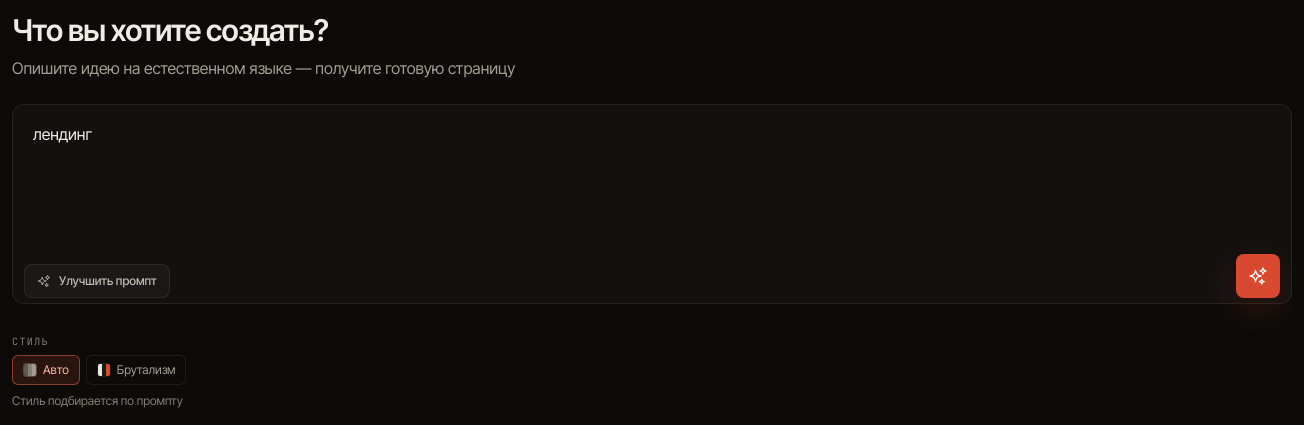
Test case: PromptInput › replaces the prompt with the result, keeps focus and does not generate
Click the button "Улучшить промпт" at (97, 281), box [24,264,170,298]
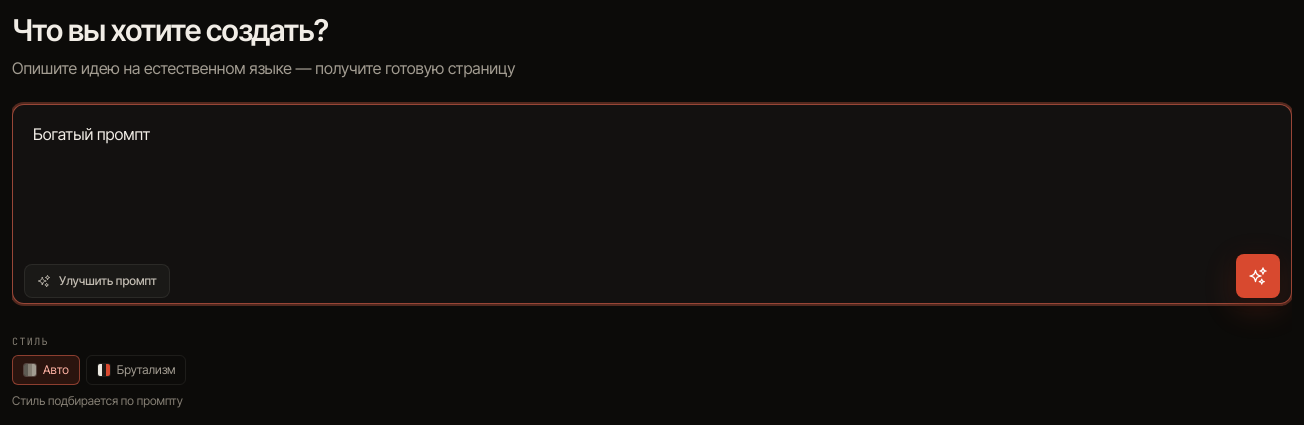
Check: the text box named "Описание дизайна" holds "Богатый промпт", box [12,104,1292,304]
